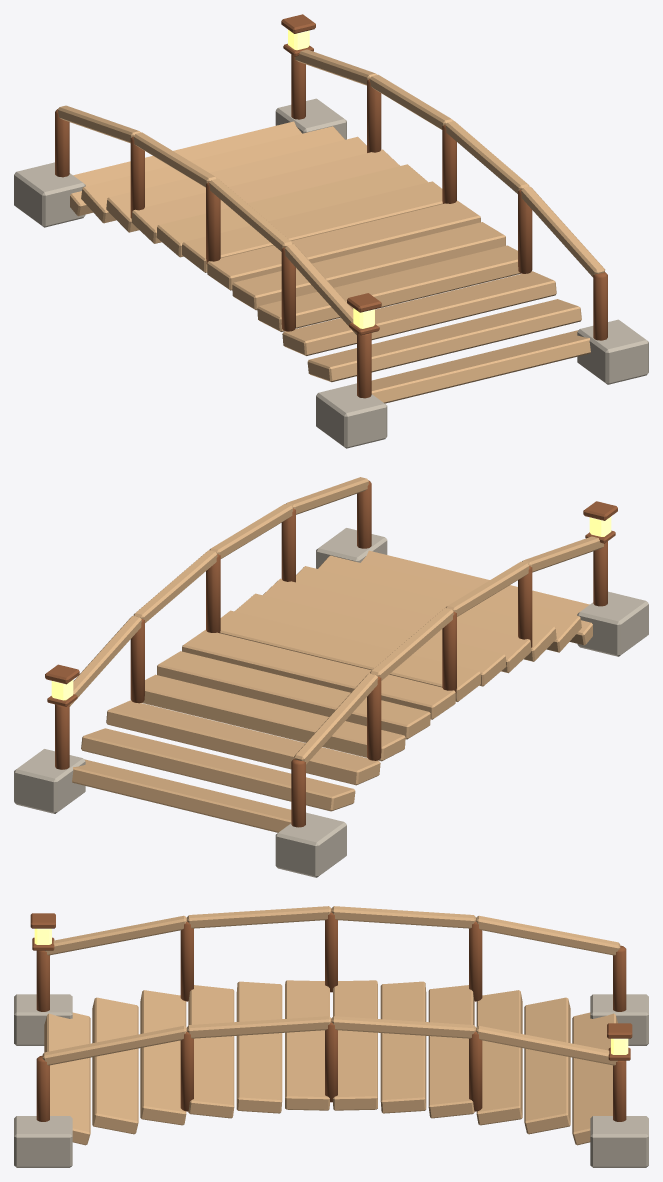
3 renders of one model, top to bottom at view 1: azimuth 30°, elevation 25°; view 2: azimuth 150°, elevation 25°; view 3: azimuth 270°, elevation 25°, orthographic. The views are drawn at different scales.
Visible parts, largest first — view 1: honey_wood, limestone, toasted_wood, amber_glow; view 2: honey_wood, limestone, toasted_wood, amber_glow; view 3: honey_wood, toasted_wood, limestone, amber_glow.
Boxes of the visible parts, bbox=[...] form: honey_wood: bbox=[57, 49, 605, 403]; limestone: bbox=[14, 98, 648, 448]; toasted_wood: bbox=[55, 14, 607, 398]; amber_glow: bbox=[288, 29, 374, 328]; honey_wood: bbox=[69, 477, 603, 832]; limestone: bbox=[14, 528, 648, 877]; toasted_wood: bbox=[45, 480, 617, 827]; amber_glow: bbox=[51, 516, 611, 700]; honey_wood: bbox=[42, 906, 620, 1145]; toasted_wood: bbox=[30, 909, 632, 1121]; limestone: bbox=[14, 994, 648, 1167]; amber_glow: bbox=[34, 928, 628, 1054].
Size of the model in its own units: 3.15 by 1.4 by 5.95.
